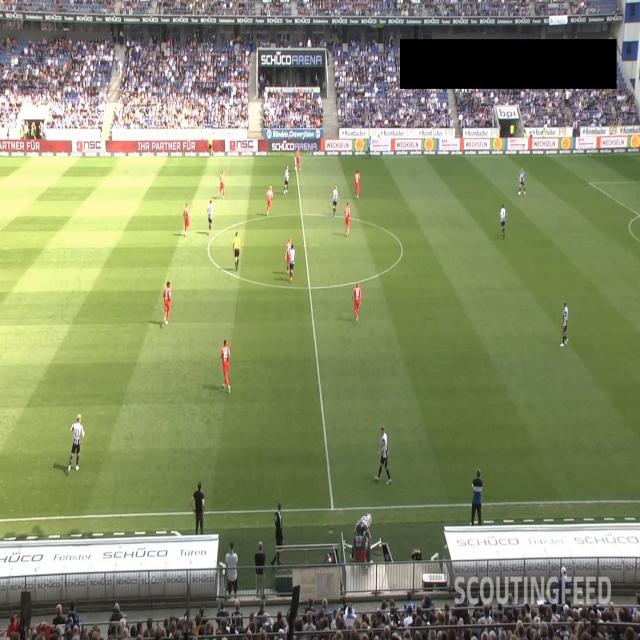ball: (518, 190, 521, 195)
